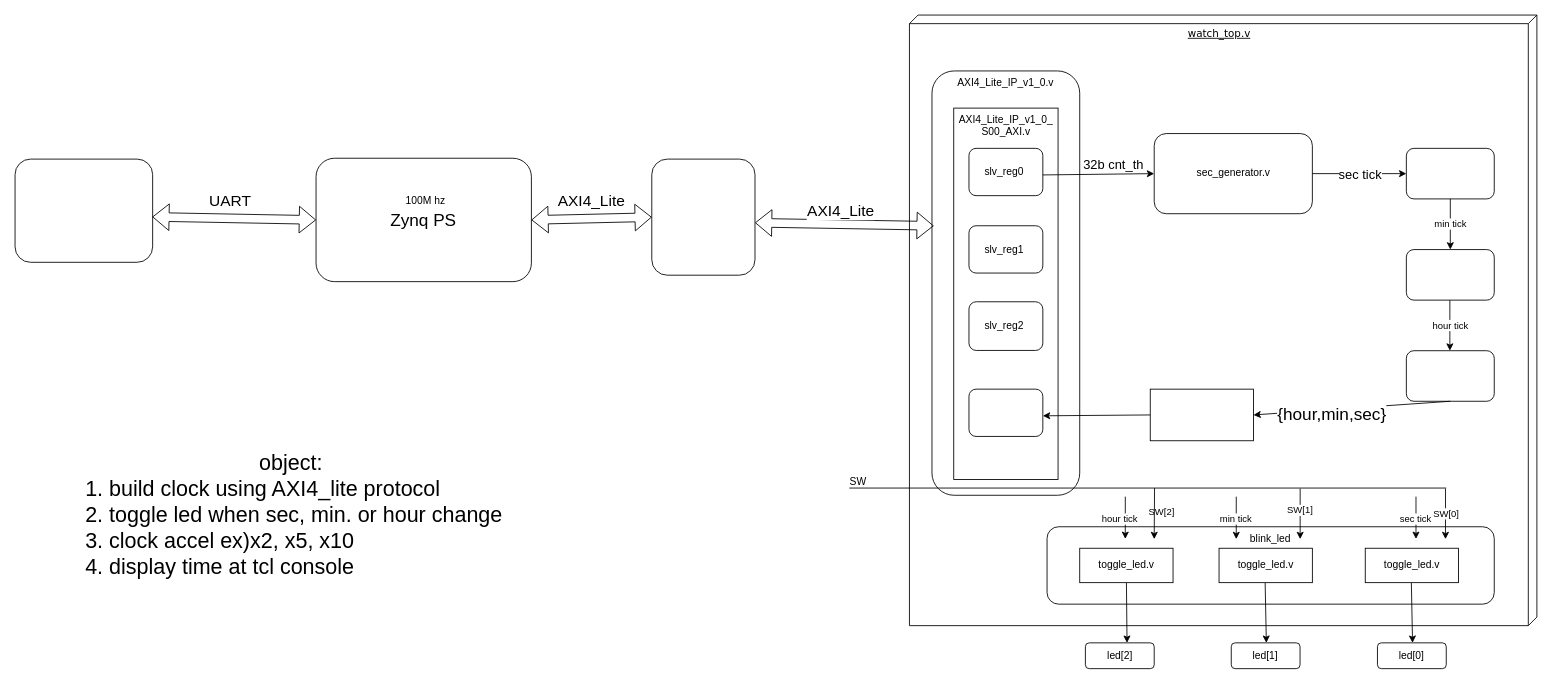
This 1552x684 diagram has some shape labels left out. Here are the shapes that lost their labels. From the top down, the centre of each, then its label:
At point (1449, 173): "sec_count reg".
At point (83, 210): "PC".
At point (703, 216): "AXI4 interconnect".
At point (1449, 274): "min_count reg".
At point (1449, 375): "hour_count reg".
At point (1005, 412): "slv_reg3".
At point (1201, 414): "time reg".
